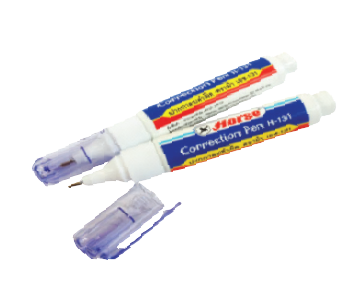Correction_fluid: (30, 48, 299, 185)
